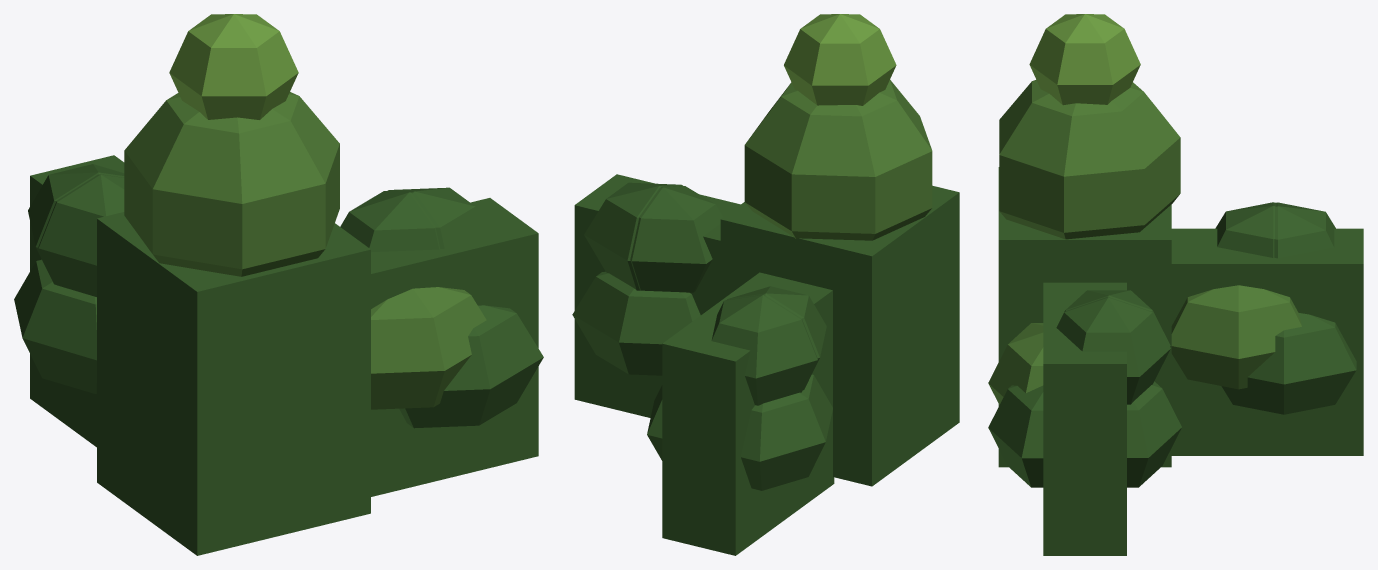
File: boxhedge_corner.glb
3 views of the same model, side by side, from view 1: azimuth 30°, elevation 25°; view 2: azimuth 150°, elevation 25°; view 3: azimuth 270°, elevation 25° (orthographic). The views are drawn at different scales.
Visible parts, largest first — view 1: fence_boxhedge_corner; view 2: fence_boxhedge_corner; view 3: fence_boxhedge_corner.
Part boxes in pixels (x1=…): fence_boxhedge_corner: x1=14, y1=14, x2=543, y2=555; fence_boxhedge_corner: x1=572, y1=14, x2=959, y2=555; fence_boxhedge_corner: x1=988, y1=14, x2=1363, y2=555.
Bounding box in the file's own units: 1.35 × 1.68 × 1.35.
